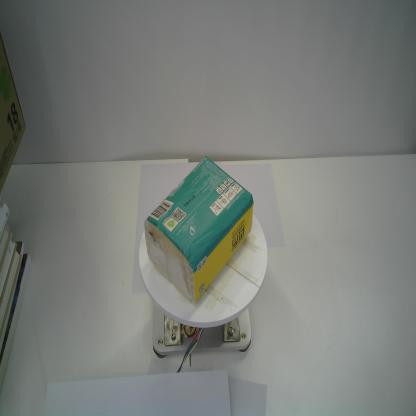Tissue: (144, 155, 254, 306)
